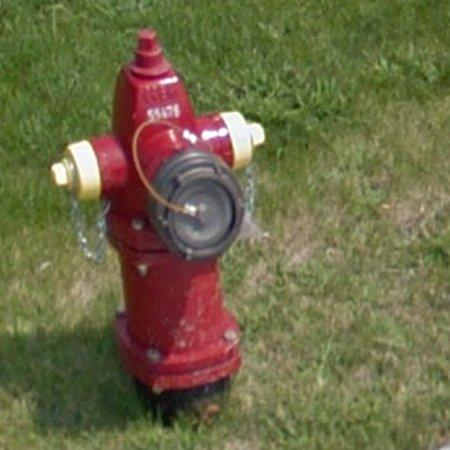a fire hydrant: (51, 29, 265, 394)
